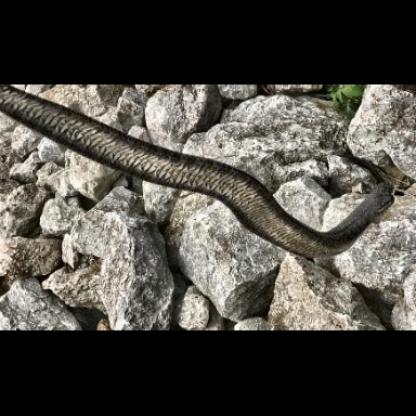Snake: (10, 80, 410, 282)
